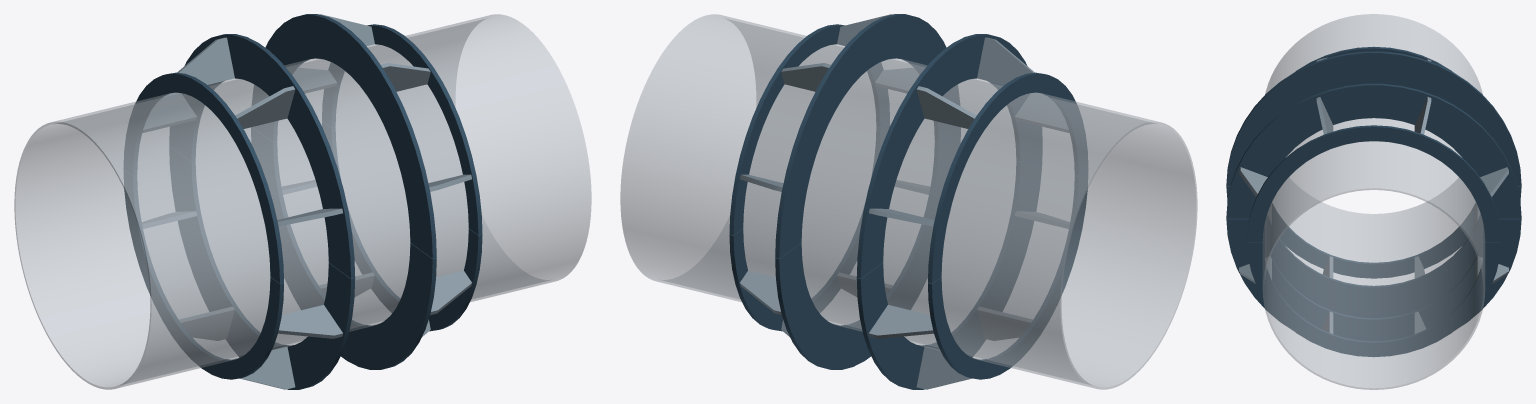
Rendered from TS-667.00.00-05-opora-dn920-D1220.glb.
3 views of the same model, side by side, from view 1: azimuth 30°, elevation 25°; view 2: azimuth 150°, elevation 25°; view 3: azimuth 270°, elevation 25° (orthographic). The views are drawn at different scales.
Visible parts, largest first — view 1: truba, polukoltso_1, polukoltso_13, polukoltso_19, polukoltso_7, polukoltso_usil_12, polukoltso_usil_24, polukoltso_usil_6, polukoltso_usil_18, rebro_9, rebro_20, rebro_10 (+8 smaller); view 2: truba, polukoltso_1, polukoltso_13, polukoltso_19, polukoltso_7, polukoltso_usil_12, polukoltso_usil_24, polukoltso_usil_6, polukoltso_usil_18, rebro_10, rebro_23, rebro_9 (+8 smaller); view 3: truba, polukoltso_1, polukoltso_7, polukoltso_13, polukoltso_19, polukoltso_usil_6, polukoltso_usil_18, polukoltso_usil_24, polukoltso_usil_12, rebro_2, rebro_5, rebro_3 (+3 smaller).
Boxes of the visible parts, x1,y1,x2,y2 form: truba: (14, 14, 591, 389); polukoltso_1: (252, 14, 436, 258); polukoltso_13: (251, 127, 436, 369); polukoltso_19: (169, 146, 355, 389); polukoltso_7: (169, 34, 355, 278); polukoltso_usil_12: (124, 72, 283, 283); polukoltso_usil_24: (124, 170, 283, 379); polukoltso_usil_6: (322, 24, 482, 235); polukoltso_usil_18: (322, 121, 482, 331); rebro_9: (177, 37, 234, 84); rebro_20: (278, 305, 342, 338); rebro_10: (235, 86, 295, 128); truba: (620, 14, 1197, 389); polukoltso_1: (775, 14, 959, 258); polukoltso_13: (775, 127, 960, 369); polukoltso_19: (856, 146, 1042, 389); polukoltso_7: (856, 34, 1042, 278); polukoltso_usil_12: (928, 72, 1087, 283); polukoltso_usil_24: (928, 170, 1087, 379); polukoltso_usil_6: (729, 24, 889, 235); polukoltso_usil_18: (729, 121, 889, 331); rebro_10: (977, 37, 1034, 84); rebro_23: (869, 305, 933, 338); rebro_9: (916, 86, 976, 128); truba: (1262, 14, 1485, 389); polukoltso_1: (1226, 83, 1521, 218); polukoltso_7: (1226, 51, 1521, 186); polukoltso_13: (1226, 218, 1521, 341); polukoltso_19: (1226, 186, 1521, 317); polukoltso_usil_6: (1247, 125, 1500, 241); polukoltso_usil_18: (1247, 242, 1500, 356); polukoltso_usil_24: (1272, 203, 1475, 278); polukoltso_usil_12: (1295, 46, 1452, 71); rebro_2: (1480, 167, 1508, 196); rebro_5: (1239, 167, 1267, 196); rebro_3: (1414, 97, 1431, 134).
Bounding box in the file's own units: 1704 × 1218 × 1220.
